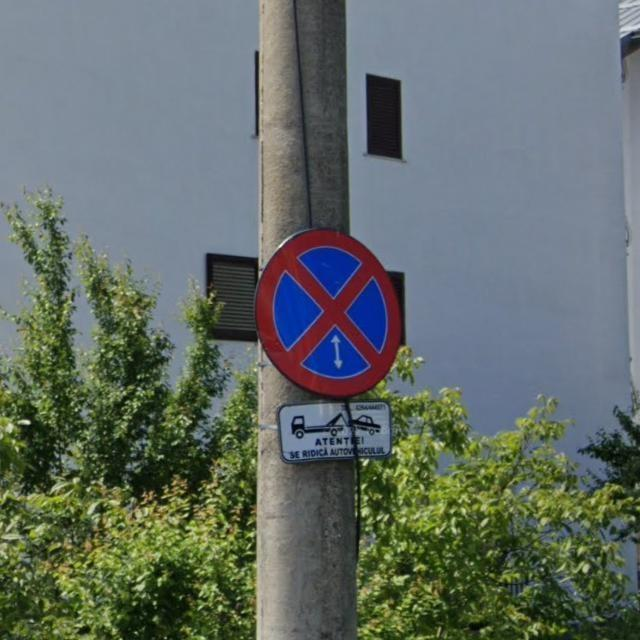forb_waiting: (249, 228, 403, 399)
